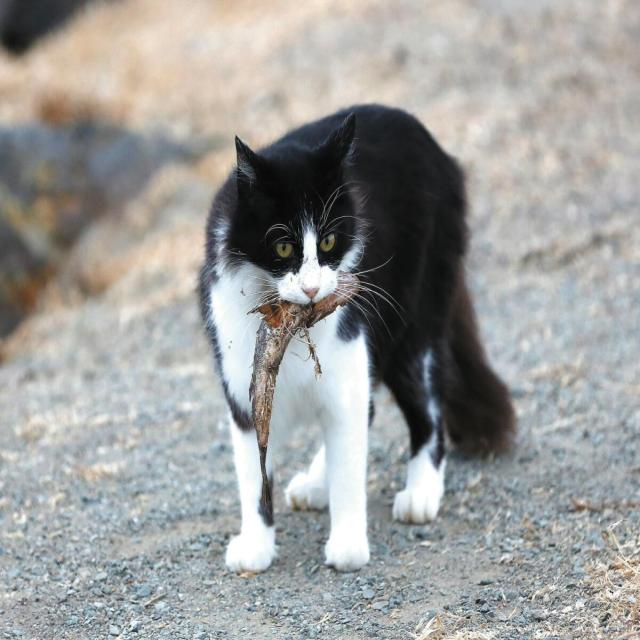cat: (199, 104, 515, 572)
